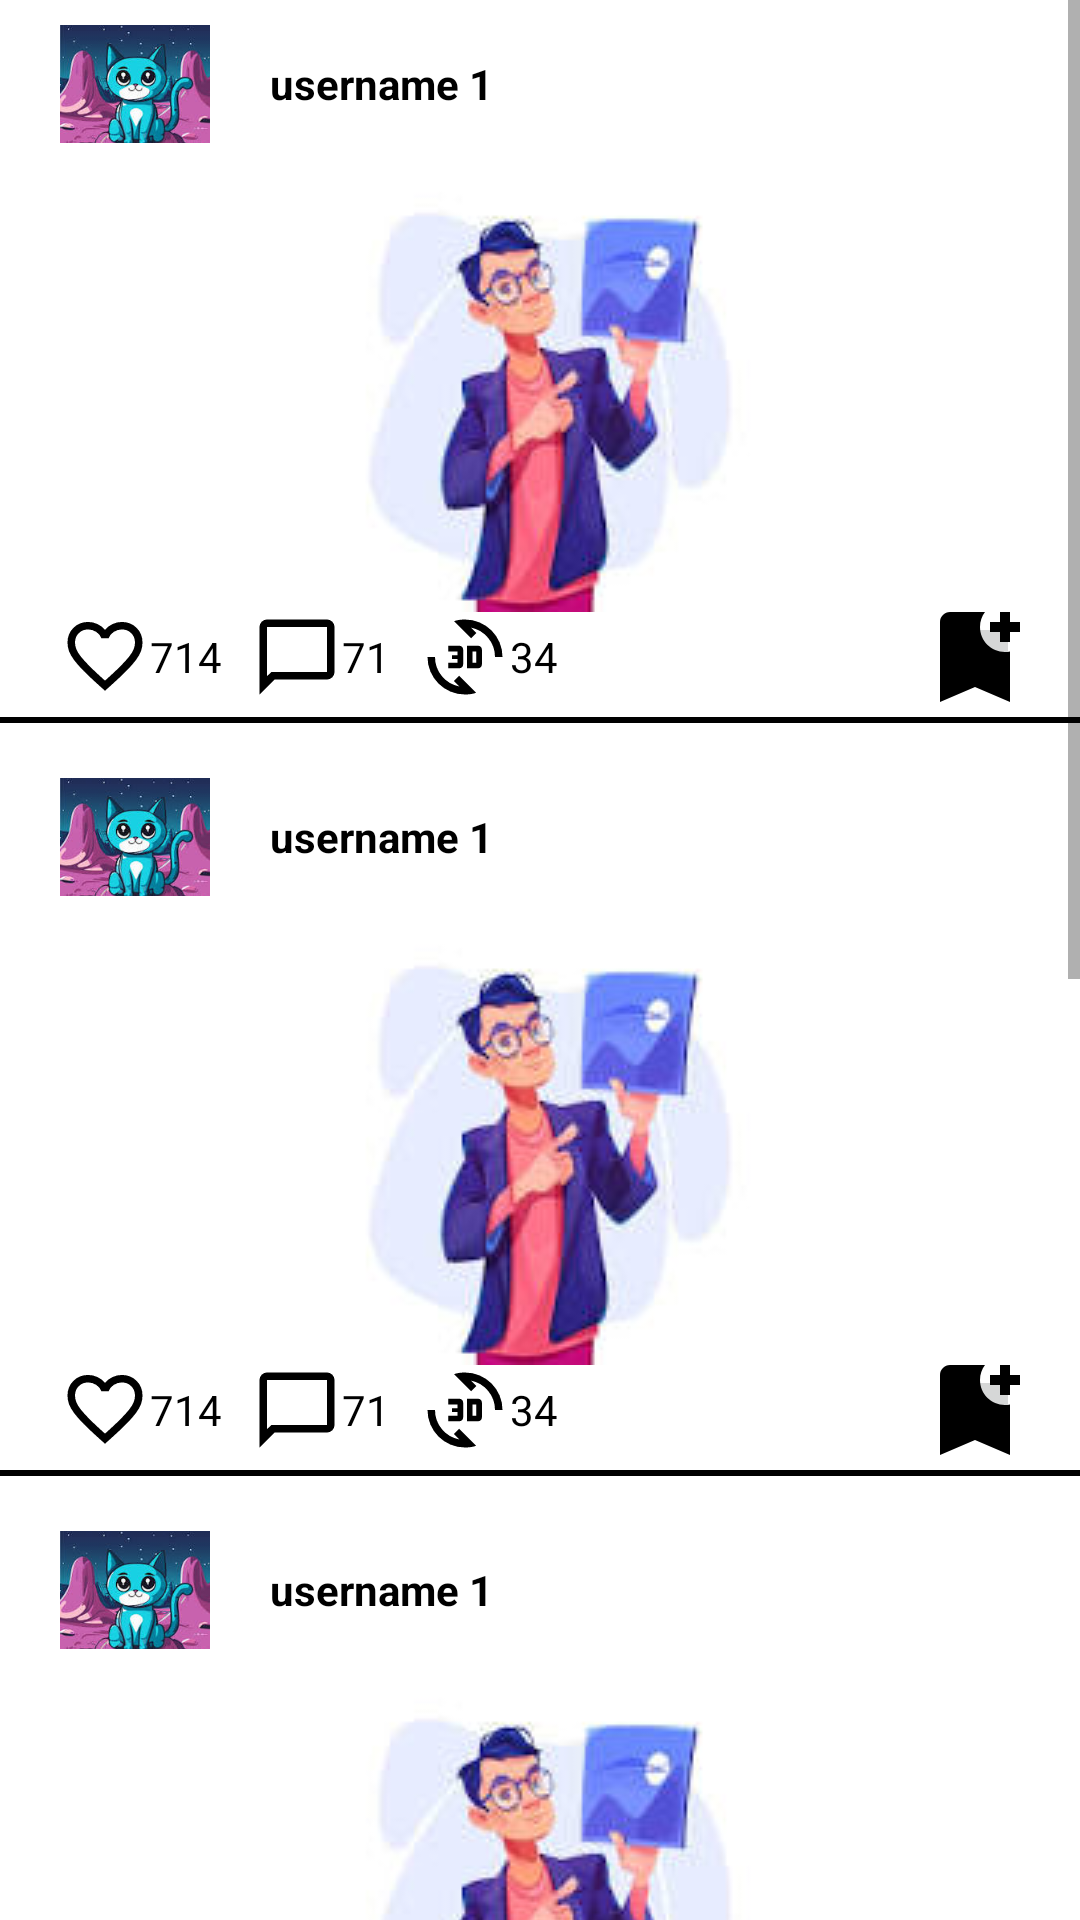

Icon click points for this 1080*1920 phone screenshot, format [x,y]:
bookmark add: [980,657], [980,1410]
chat: [297,657], [297,1410]
heart: [105,656], [105,1409]
rotation: [465,657], [465,1410]
